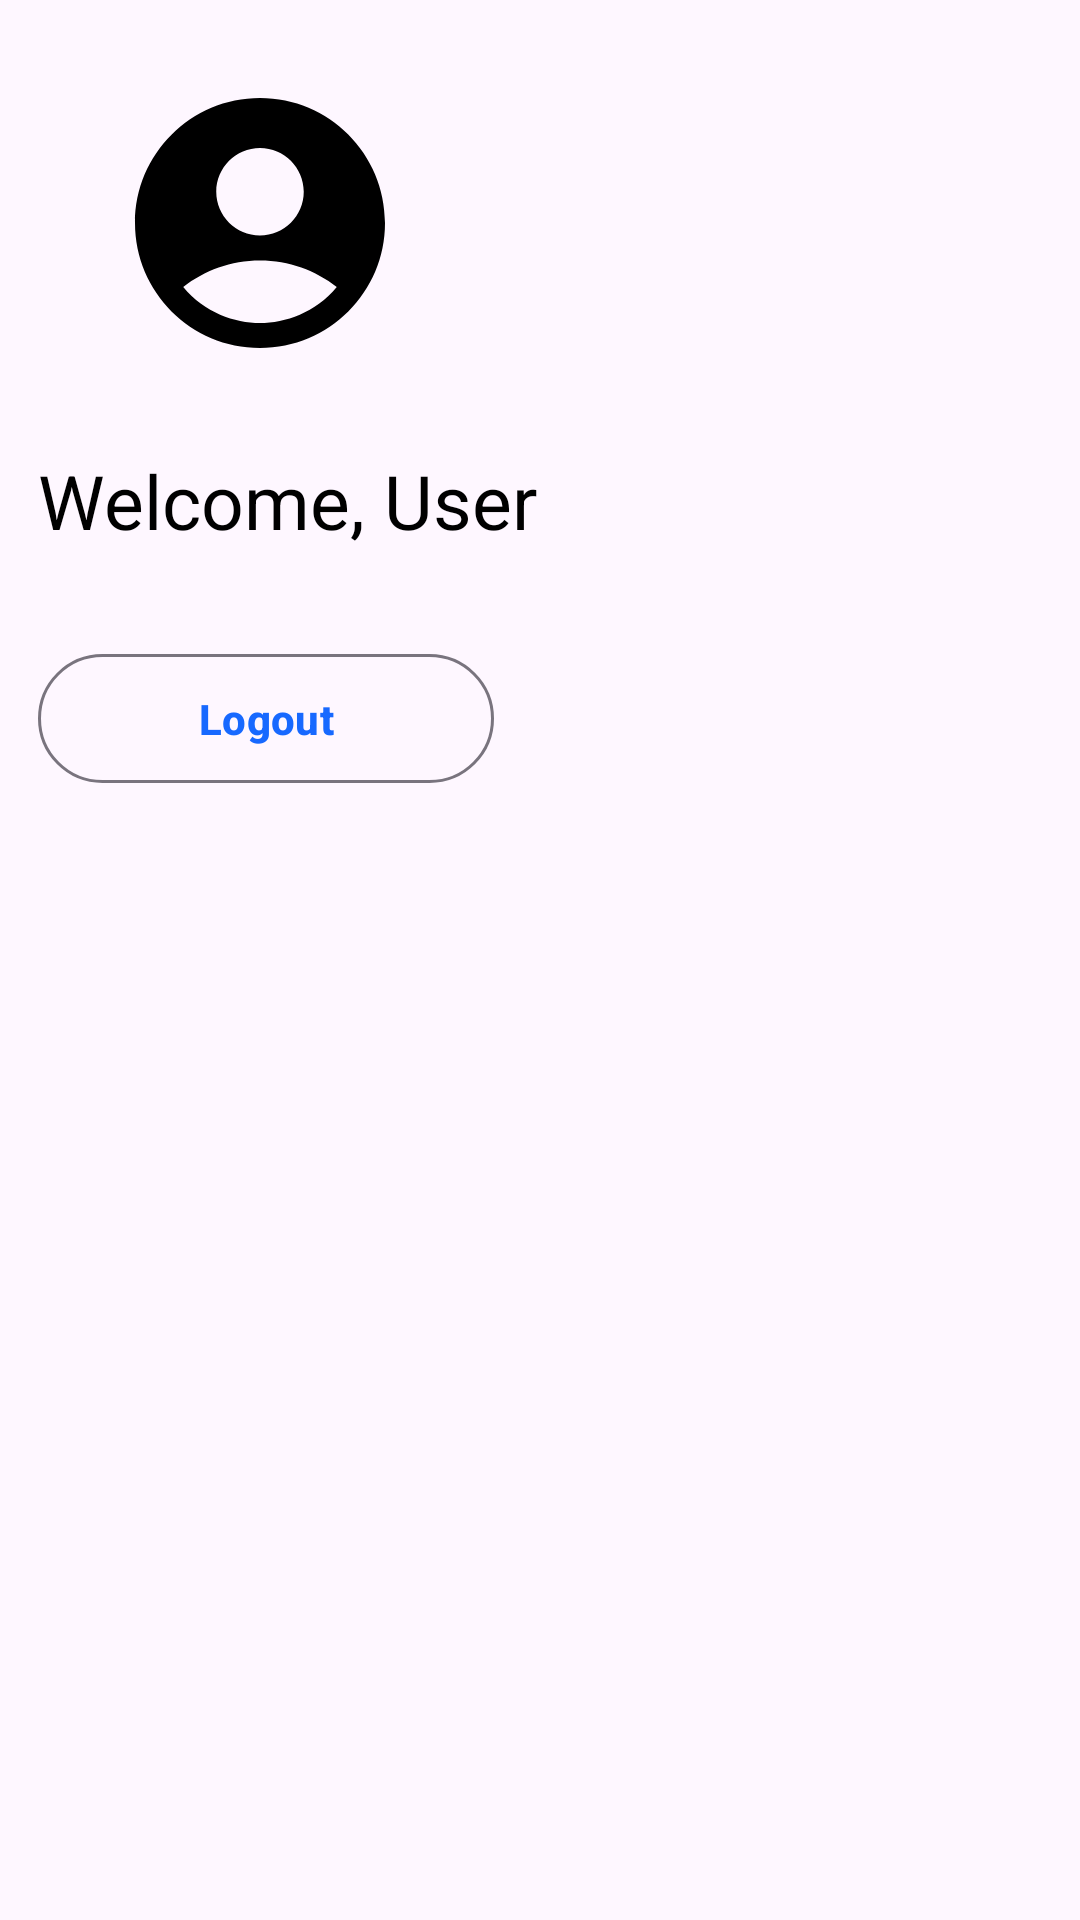

Icons on this 1080x1920 Android screen, each with the point to tap as (x=x, y=y):
profile: (x=260, y=223)
